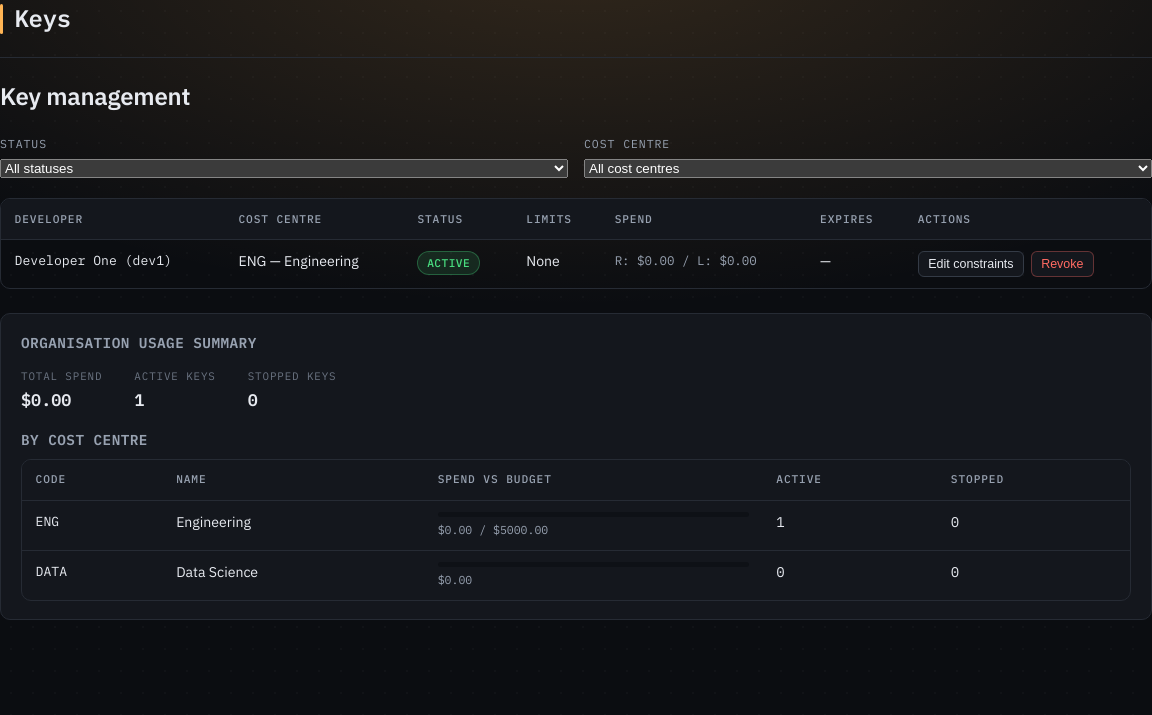
Test case: KeysPage — reviewer (admin) › admin can revoke a key from the management table
Expected: the text "Developer One (dev1)" is shown, left=1, top=240, right=225, bottom=288
Click the button "Revoke" at (1062, 264), box left=1030, top=251, right=1094, bottom=277
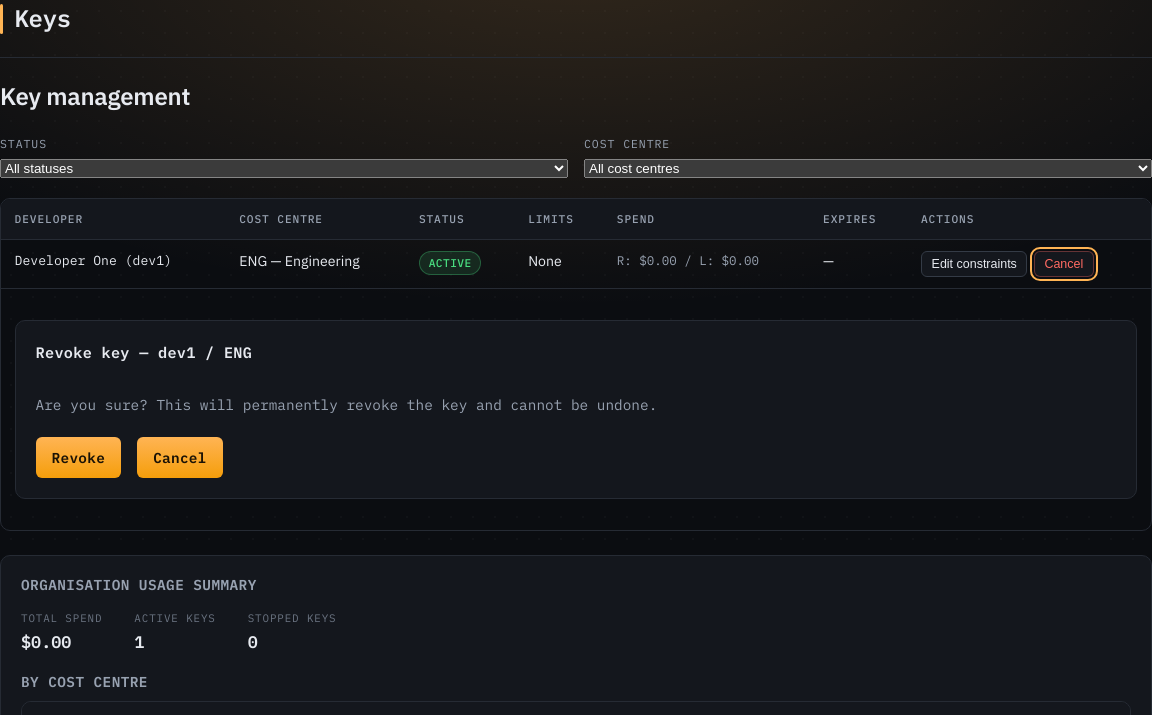
Result: the heading "Revoke key — dev1 / ENG" is shown at left=36, top=342, right=252, bottom=362
Confirm by clicking the danger Revoke in the panel
Click the button "Revoke" at (78, 458), box left=36, top=437, right=121, bottom=478
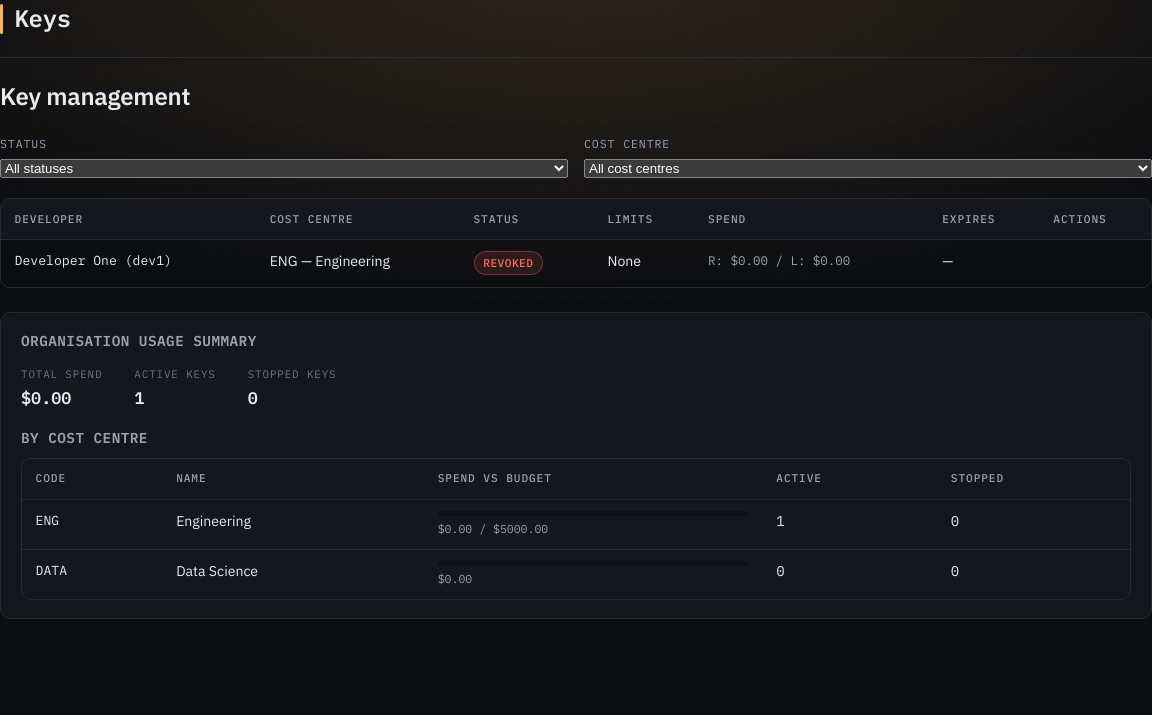
Result: the heading "Revoke key" is gone
Result: the text "revoked" is shown at left=474, top=251, right=543, bottom=275
